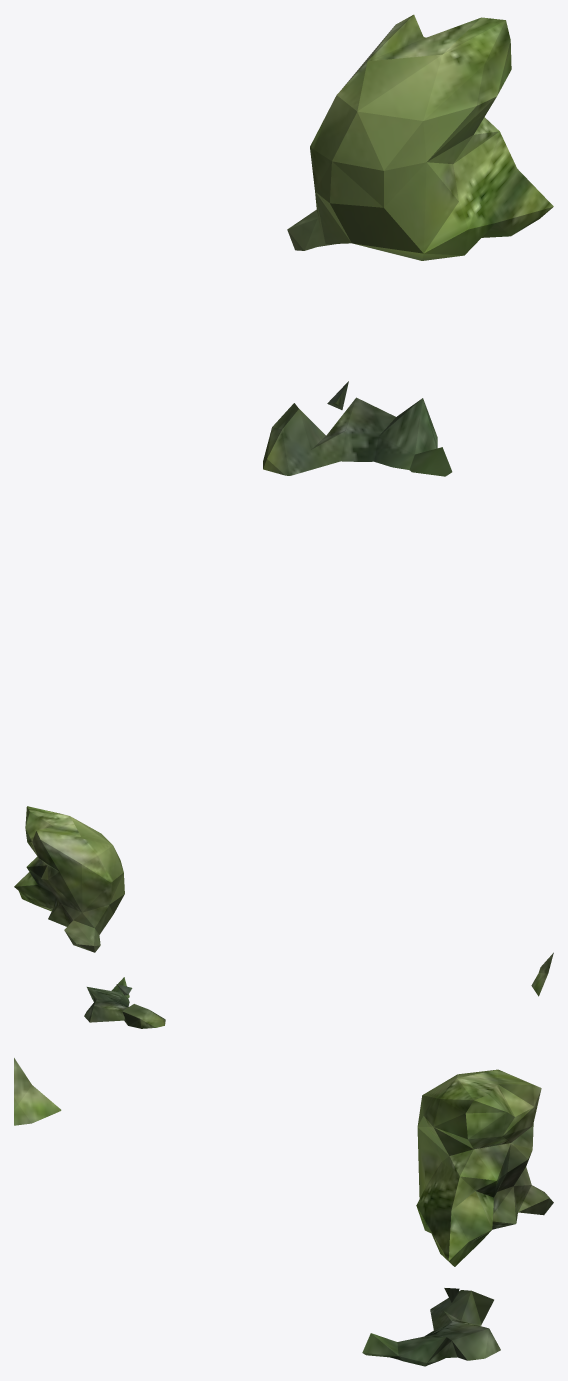
3 views of the same model, one above another, from view 1: azimuth 30°, elevation 25°; view 2: azimuth 150°, elevation 25°; view 3: azimuth 270°, elevation 25° (orthographic). The views are drawn at different scales.
Bounding box in the file's own units: 19.79 × 9.15 × 14.67.
1 material, 1 textured.
